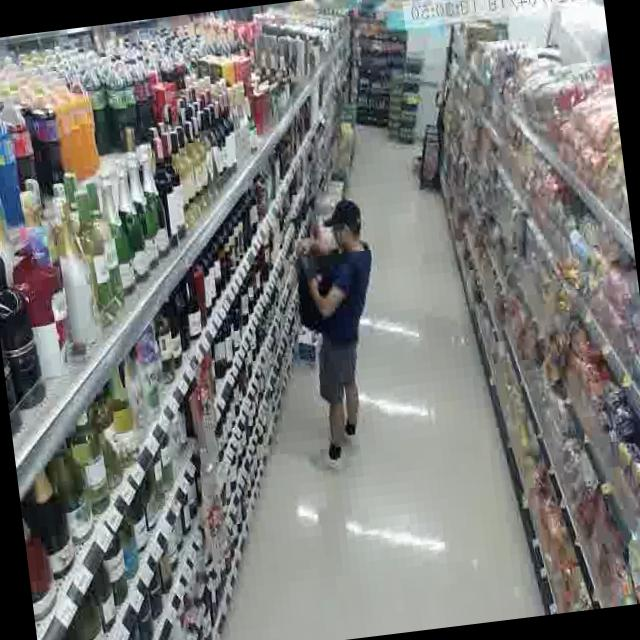shoplifting: (260, 172, 403, 483)
